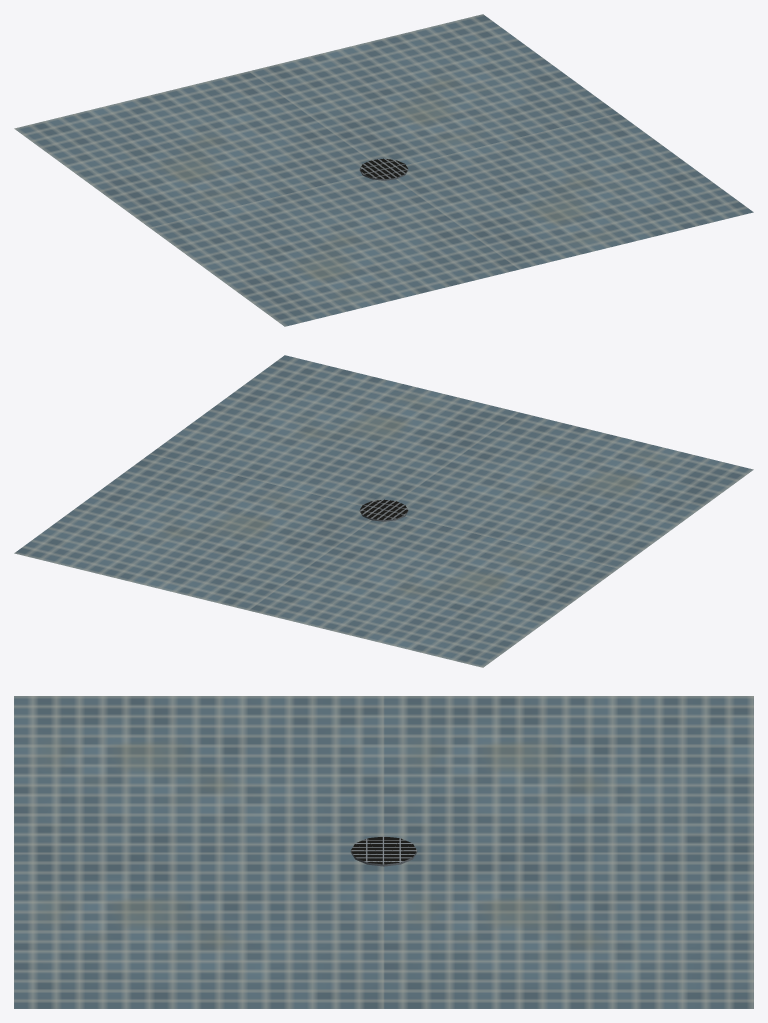
Rendered from floor_shower_drain.fbx.
3 renders of one model, top to bottom at view 1: azimuth 30°, elevation 25°; view 2: azimuth 150°, elevation 25°; view 3: azimuth 270°, elevation 25°, orthographic. The views are drawn at different scales.
Visible parts, largest first — view 1: floor_shower_drain; view 2: floor_shower_drain; view 3: floor_shower_drain.
Part boxes in pixels (x1,y1,x2,y2): floor_shower_drain: (14,14,753,326); floor_shower_drain: (14,355,753,667); floor_shower_drain: (14,696,753,1008).
Size of the model in its own units: 2 by 0.006 by 2.
Materials: 1 (1 with a texture image).
